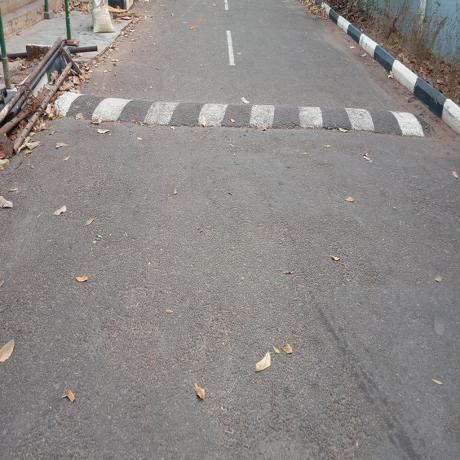Speed Bump: (55, 88, 428, 138)
